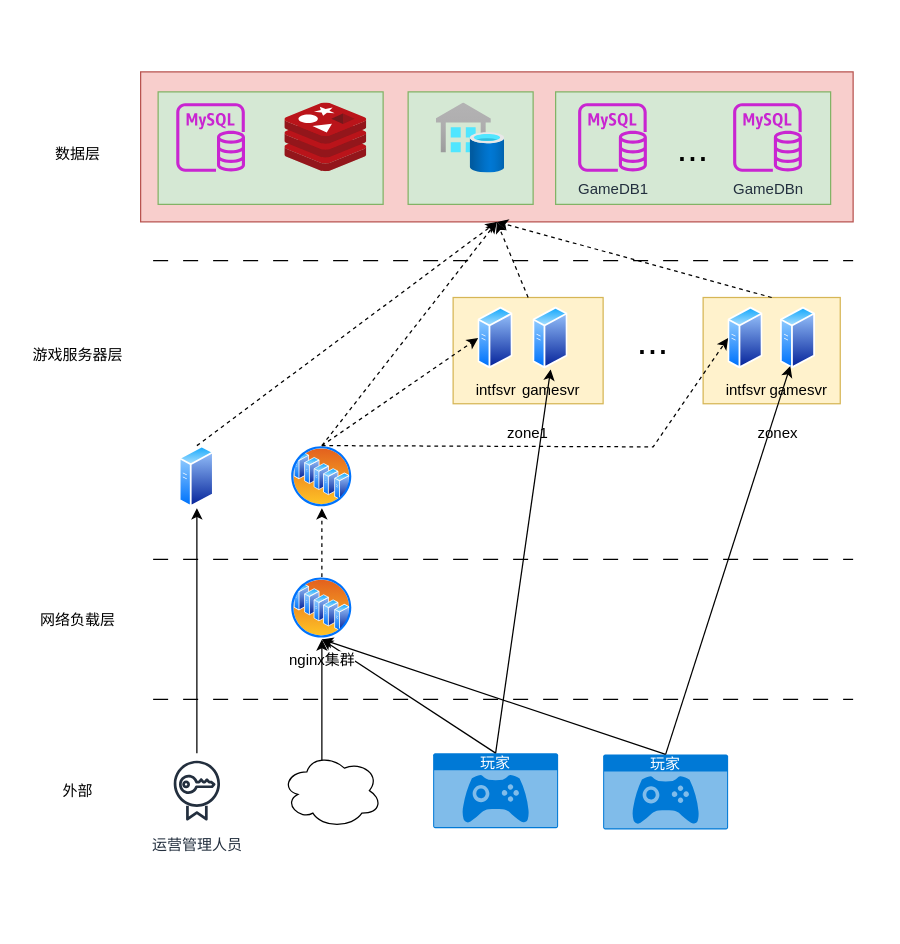
Image size: 900x944. Some labels were removed from this diagram. Here are the shapes that lost their labels. From the top down, the centre of each, then its label:
At point 210,136: "PlatDB".
At point 325,136: "Redis".
At point 470,137: "数据仓库".
At point 196,476: "managesvr".
At point 321,476: "sdksvr集群".
At point 331,790: "外部厂商".
